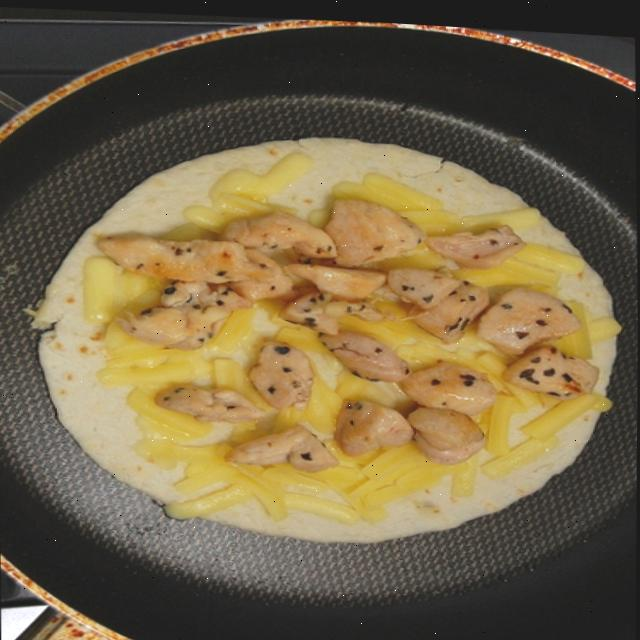面包点心: (8, 70, 640, 595)
